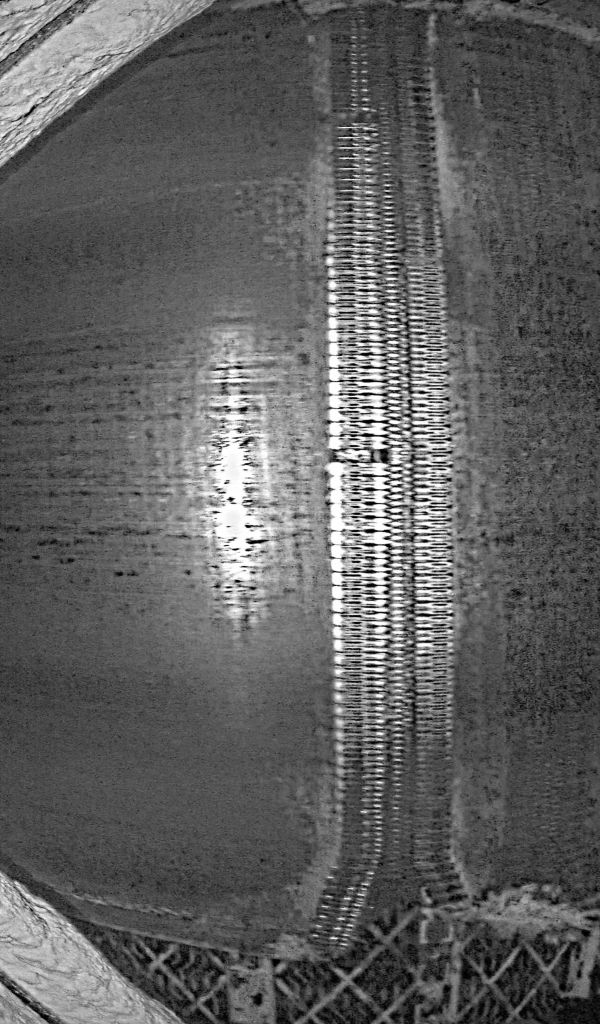damage: (305, 848, 481, 936)
splice: (321, 4, 479, 934)
